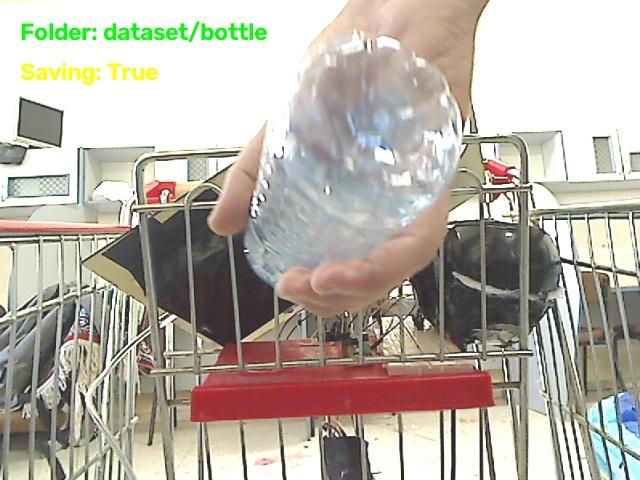Bottle: (245, 32, 461, 284)
